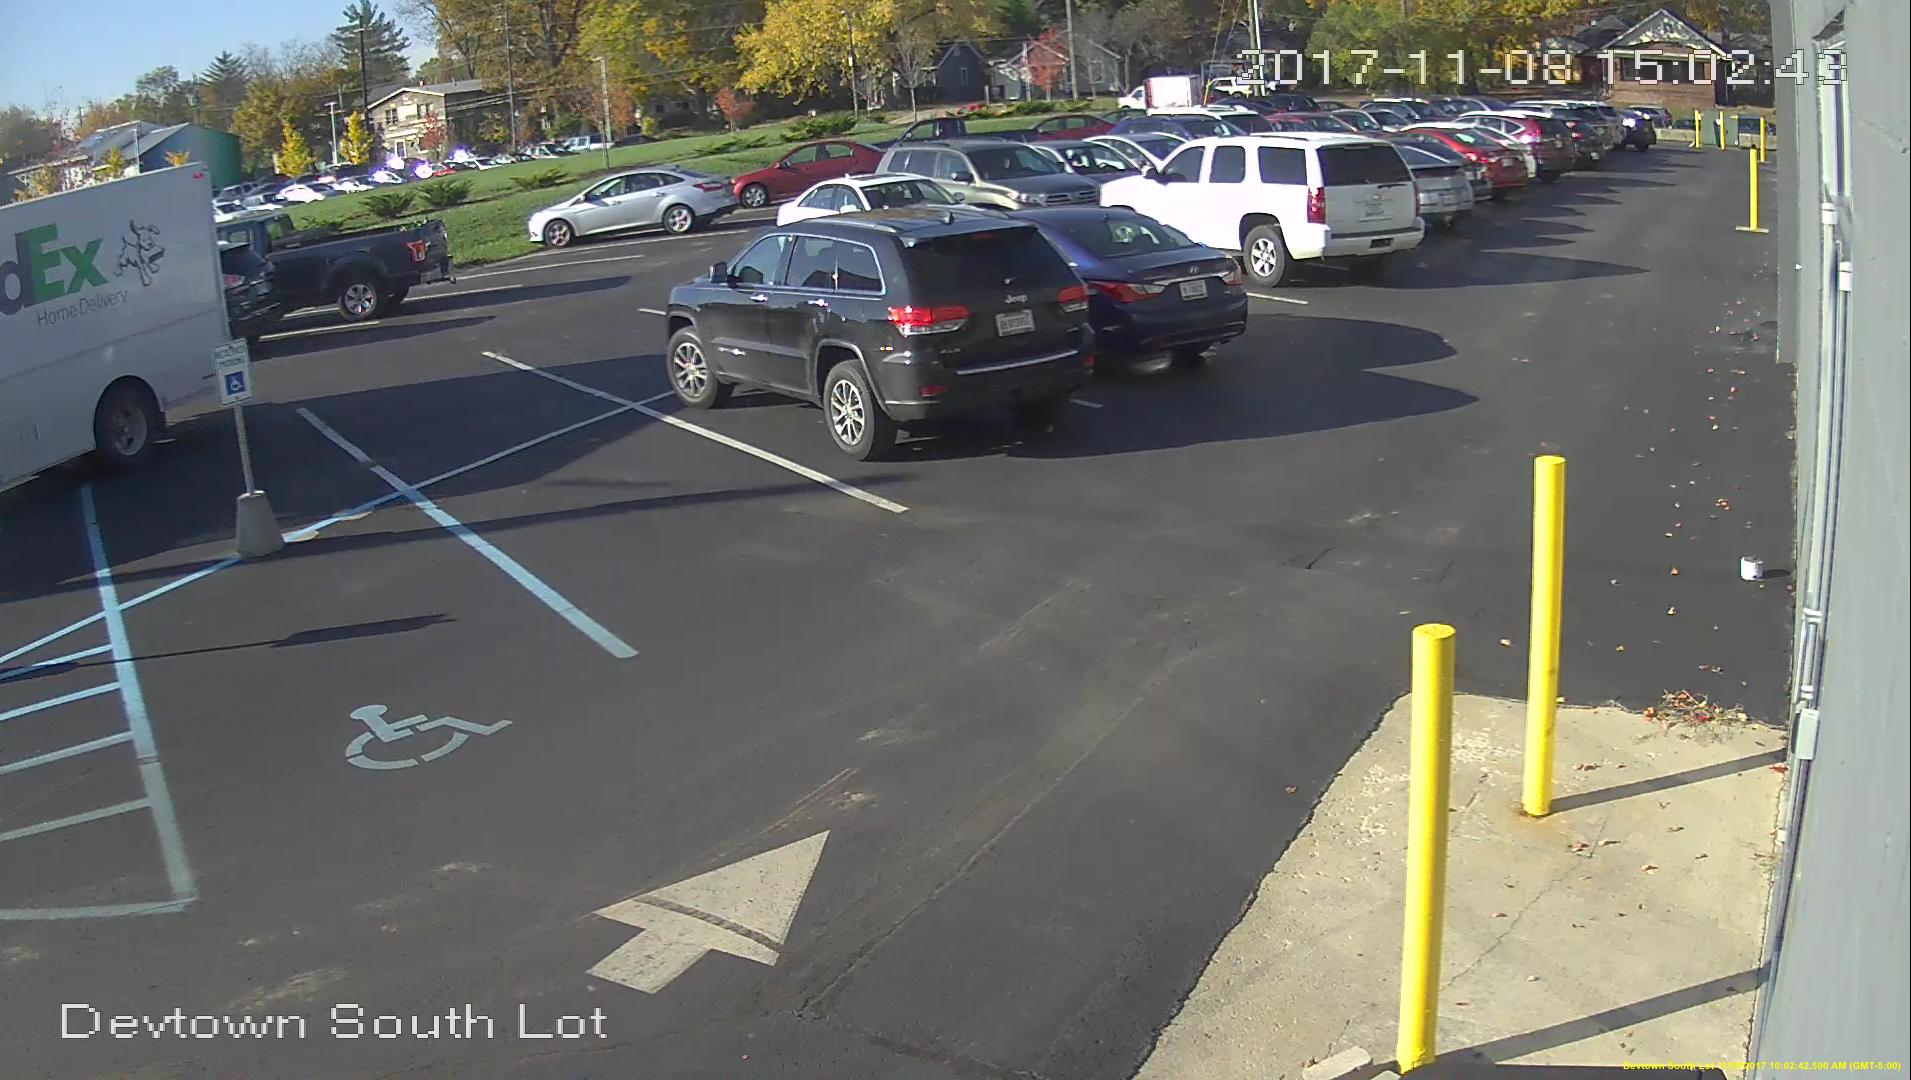fedex_truck: (1, 161, 245, 491)
